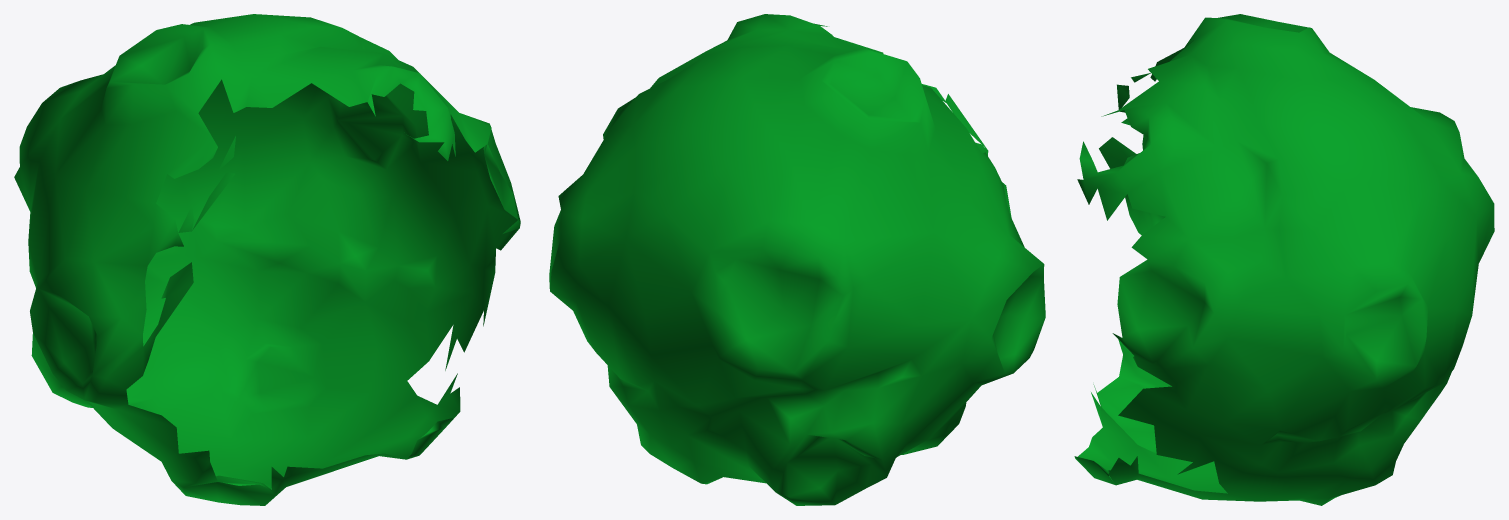
Rendered from OldMoon_LP.fbx.
3 renders of one model, left to right at view 1: azimuth 30°, elevation 25°; view 2: azimuth 150°, elevation 25°; view 3: azimuth 270°, elevation 25°, orthographic. The views are drawn at different scales.
Visible parts, largest first — view 1: OldMoon_LP; view 2: OldMoon_LP; view 3: OldMoon_LP.
Part boxes in pixels (left/top/right/bottom): OldMoon_LP: left=14, top=14, right=520, bottom=505; OldMoon_LP: left=549, top=14, right=1045, bottom=505; OldMoon_LP: left=1074, top=14, right=1494, bottom=505.
Size of the model in its own units: 219 by 205 by 181.
